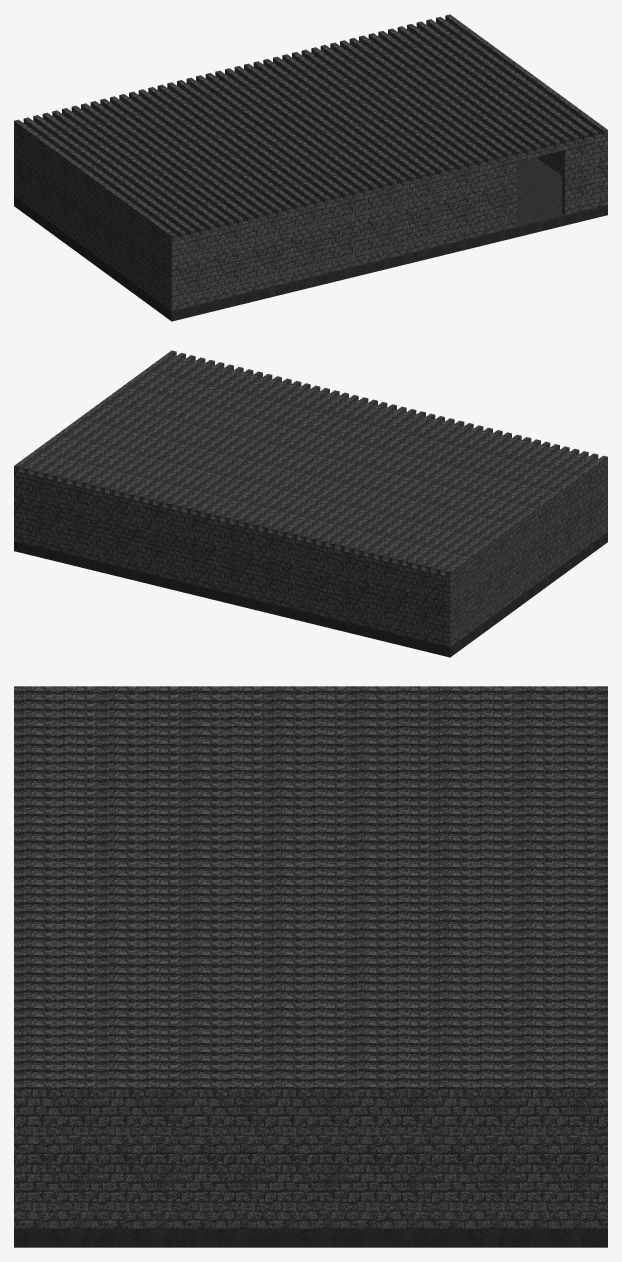
The model's file is building1.obj.
3 renders of one model, top to bottom at view 1: azimuth 30°, elevation 25°; view 2: azimuth 150°, elevation 25°; view 3: azimuth 270°, elevation 25°, orthographic. The views are drawn at different scales.
Parts seen in each view (by area): view 1: Brush17, Brush6, Brush15, Brush16, Brush13, Brush9, Brush14, Brush47, Brush32, Brush37, Brush43, Brush58 (+41 smaller); view 2: Brush8, Brush12, Brush15, Brush6, Brush4, Brush9, Brush47, Brush32, Brush37, Brush43, Brush58, Brush24 (+41 smaller); view 3: Brush20, Brush6, Brush66, Brush23, Brush24, Brush30, Brush31, Brush33, Brush34, Brush36, Brush38, Brush39 (+37 smaller).
Part boxes in pixels (<box>): Brush17: <box>258,174,440,290</box>; Brush6: <box>14,151,607,321</box>; Brush15: <box>72,168,176,311</box>; Brush16: <box>176,220,253,310</box>; Brush13: <box>445,155,516,244</box>; Brush9: <box>16,128,69,235</box>; Brush14: <box>562,134,607,215</box>; Brush47: <box>14,119,176,240</box>; Brush32: <box>320,45,483,166</box>; Brush37: <box>368,33,531,154</box>; Brush43: <box>138,89,301,210</box>; Brush58: <box>157,84,320,206</box>; Brush8: <box>105,491,344,621</box>; Brush12: <box>349,552,452,647</box>; Brush15: <box>508,462,607,604</box>; Brush6: <box>14,487,607,657</box>; Brush4: <box>18,470,100,561</box>; Brush9: <box>453,537,505,645</box>; Brush47: <box>445,455,607,576</box>; Brush32: <box>138,381,301,502</box>; Brush37: <box>90,369,253,490</box>; Brush43: <box>320,425,483,546</box>; Brush58: <box>301,420,464,542</box>; Brush24: <box>253,409,416,530</box>; Brush20: <box>24,1096,607,1228</box>; Brush6: <box>14,1228,607,1247</box>; Brush66: <box>14,1082,607,1096</box>; Brush23: <box>14,853,607,862</box>; Brush24: <box>14,862,607,871</box>; Brush30: <box>14,985,607,994</box>; Brush31: <box>14,959,607,968</box>; Brush33: <box>14,941,607,950</box>; Brush34: <box>14,994,607,1003</box>; Brush36: <box>14,1003,607,1012</box>; Brush38: <box>14,950,607,959</box>; Brush39: <box>14,906,607,915</box>.
Size of the model in its own units: 1456 by 272 by 912.
